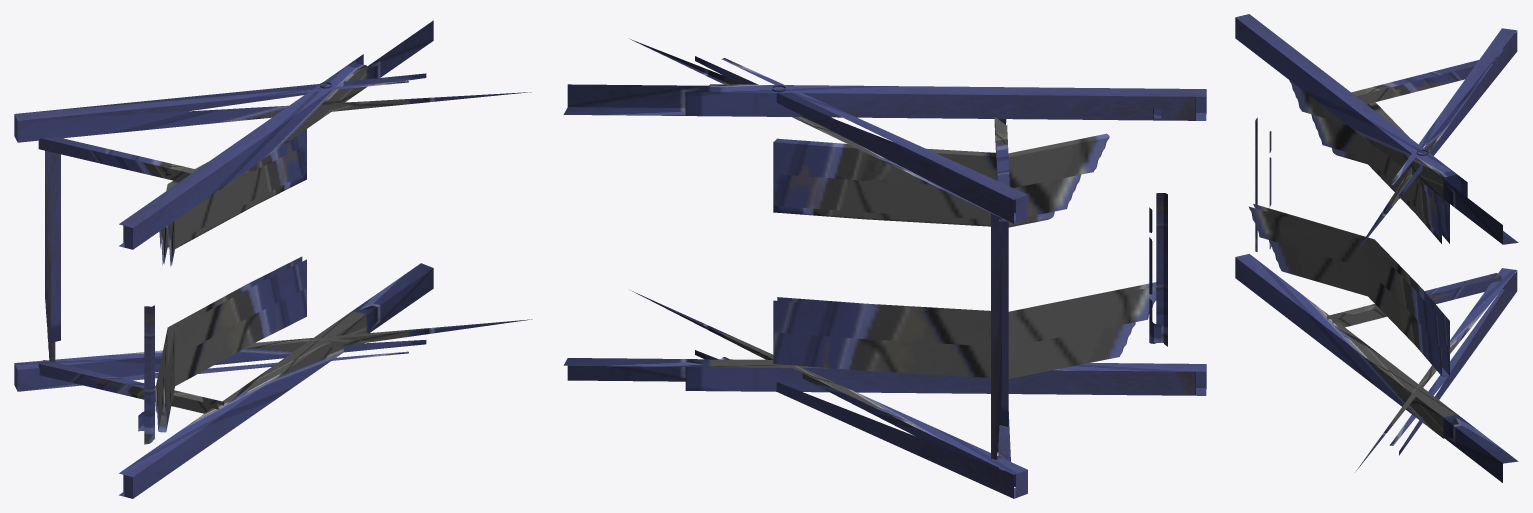
3 views of the same model, side by side, from view 1: azimuth 30°, elevation 25°; view 2: azimuth 150°, elevation 25°; view 3: azimuth 270°, elevation 25° (orthographic). The views are drawn at different scales.
Bounding box in the file's own units: 1.33 × 0.7291 × 0.7092.
